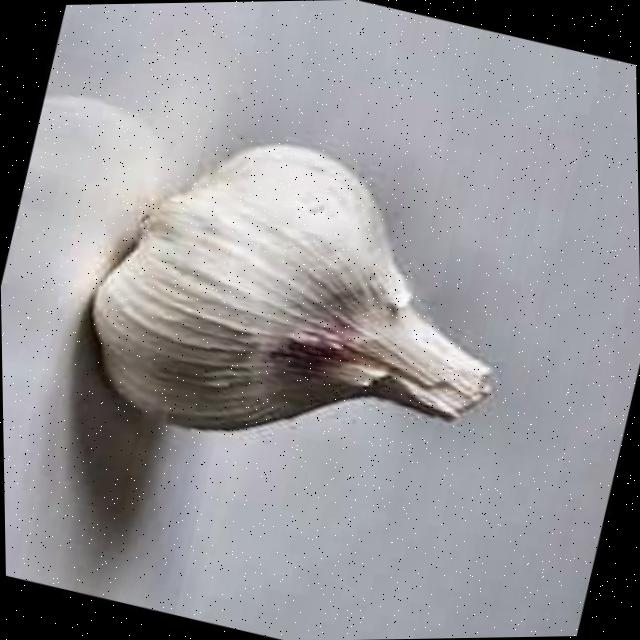garlic: (92, 145, 491, 430)
